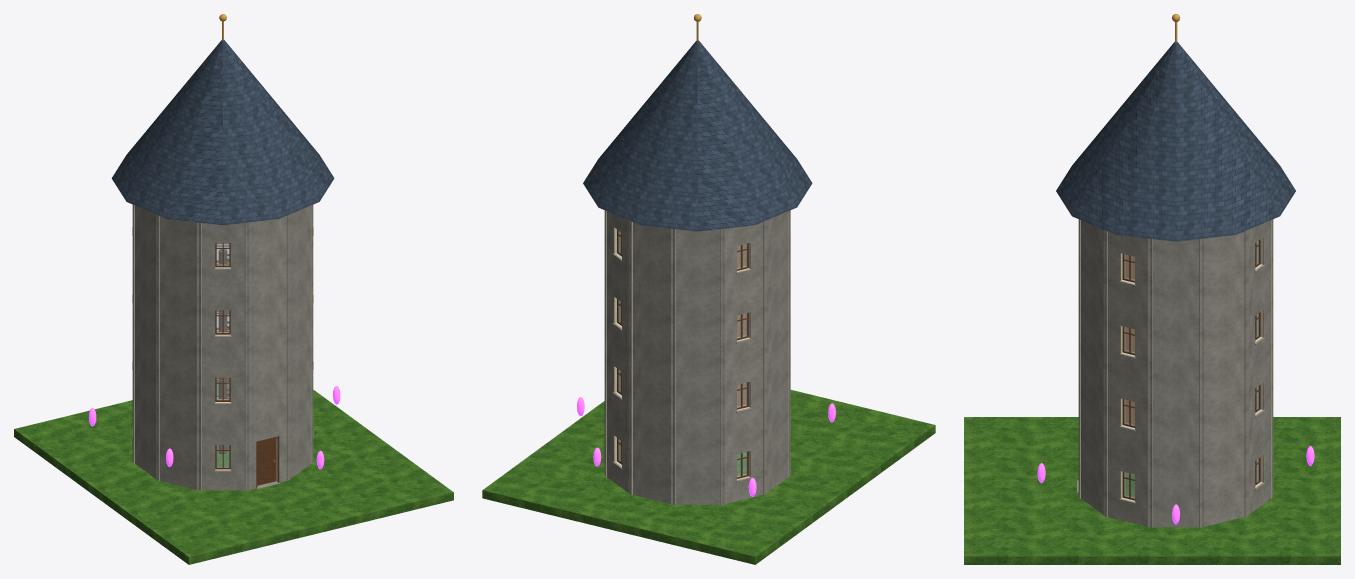
File: b_wizard_tower.gltf
3 views of the same model, side by side, from view 1: azimuth 30°, elevation 25°; view 2: azimuth 150°, elevation 25°; view 3: azimuth 270°, elevation 25° (orthographic). The views are drawn at different scales.
Parts seen in each view (by area): view 1: S_wizard_tower, D_wizard_tower_F1_8_0_Door0; view 2: S_wizard_tower; view 3: S_wizard_tower.
Boxes of the visible parts, left/top/right/bottom form: S_wizard_tower: left=14, top=14, right=453, bottom=564; D_wizard_tower_F1_8_0_Door0: left=257, top=438, right=275, bottom=485; S_wizard_tower: left=482, top=14, right=935, bottom=564; S_wizard_tower: left=964, top=14, right=1340, bottom=564.
Bounding box in the file's own units: 14 × 22.53 × 16.
14 materials, 8 textured.
